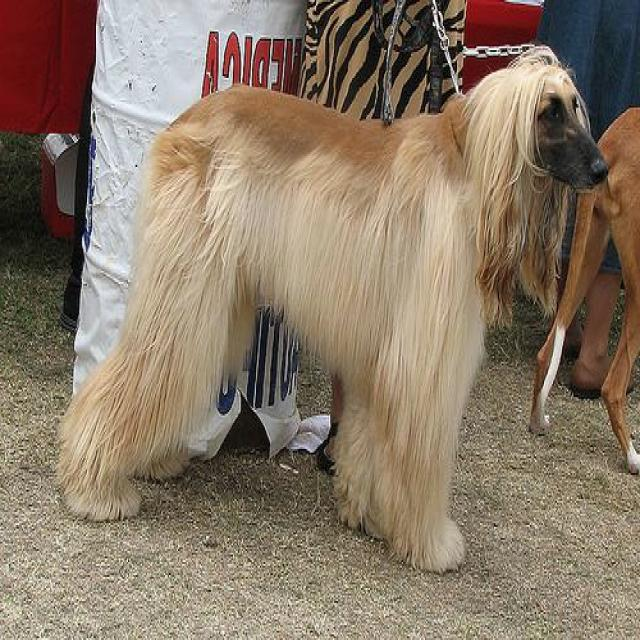afghan_hound: (53, 41, 613, 579)
